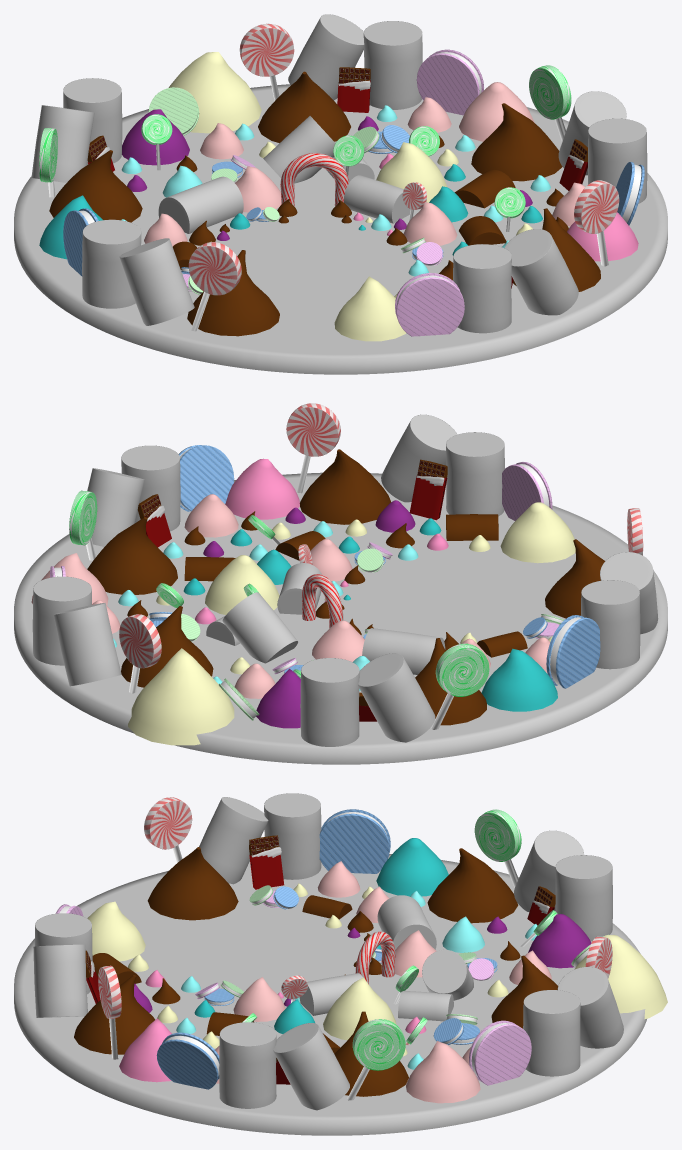
File: Galleta-Premio.fbx
3 renders of one model, top to bottom at view 1: azimuth 30°, elevation 25°; view 2: azimuth 150°, elevation 25°; view 3: azimuth 270°, elevation 25°, orthographic. The views are drawn at different scales.
Parts seen in each view (by area): view 1: GalletaEscenario, Masmelo.010, Masmelo.004, Masmelo.009, Golochifs.003, Masmelo.007, Masmelo.008, ChispaDe/Chocolate.002, Masmelo.002, Galletas.006, ChispaDe/Chocolate.005, ChispaDe/Chocolate.003 (+43 smaller); view 2: GalletaEscenario, Golochifs.003, Masmelo.006, Masmelo.010, Masmelo.005, ChispaDe/Chocolate.006, Masmelo.008, ChispaDe/Chocolate.002, Masmelo.002, Masmelo.009, Golochifs.004, Golochifs.005 (+37 smaller); view 3: GalletaEscenario, Masmelo.001, Masmelo.004, Masmelo.003, ChispaDe/Chocolate.005, ChispaDe/Chocolate.004, Masmelo.006, Masmelo.008, Masmelo.009, Galletas.005, Masmelo.007, Masmelo.002 (+37 smaller).
Boxes of the visible parts, bbox=[...] form: GalletaEscenario: bbox=[14, 84, 667, 374]; Masmelo.010: bbox=[453, 244, 511, 333]; Masmelo.004: bbox=[363, 21, 422, 109]; Masmelo.009: bbox=[504, 229, 578, 315]; Golochifs.003: bbox=[168, 52, 261, 133]; Masmelo.007: bbox=[119, 238, 194, 325]; Masmelo.008: bbox=[82, 219, 141, 308]; ChispaDe/Chocolate.002: bbox=[471, 103, 562, 181]; Masmelo.002: bbox=[288, 14, 364, 100]; Galletas.006: bbox=[395, 273, 464, 336]; ChispaDe/Chocolate.005: bbox=[187, 250, 279, 336]; ChispaDe/Chocolate.003: bbox=[258, 71, 350, 142]; GalletaEscenario: bbox=[14, 472, 667, 764]; Golochifs.003: bbox=[128, 648, 234, 745]; Masmelo.006: bbox=[300, 658, 359, 746]; Masmelo.010: bbox=[446, 432, 504, 516]; Masmelo.005: bbox=[358, 653, 435, 742]; ChispaDe/Chocolate.006: bbox=[299, 449, 390, 524]; Masmelo.008: bbox=[581, 580, 640, 669]; ChispaDe/Chocolate.002: bbox=[87, 517, 177, 594]; Masmelo.002: bbox=[53, 603, 121, 686]; Masmelo.009: bbox=[381, 414, 457, 502]; Golochifs.004: bbox=[481, 648, 557, 711]; Golochifs.005: bbox=[500, 502, 575, 563]; GalletaEscenario: bbox=[14, 854, 646, 1135]; Masmelo.001: bbox=[219, 1022, 276, 1108]; Masmelo.004: bbox=[523, 990, 580, 1076]; Masmelo.003: bbox=[273, 1023, 349, 1110]; ChispaDe/Chocolate.005: bbox=[147, 847, 238, 920]; ChispaDe/Chocolate.004: bbox=[427, 848, 518, 923]; Masmelo.006: bbox=[555, 855, 612, 941]; Masmelo.008: bbox=[264, 793, 321, 879]; Masmelo.009: bbox=[33, 944, 87, 1017]; Galletas.005: bbox=[319, 809, 390, 873]; Masmelo.007: bbox=[199, 797, 268, 884]; Masmelo.002: bbox=[557, 966, 623, 1048].
Size of the model in its own units: 49872 by 10346 by 51283.
